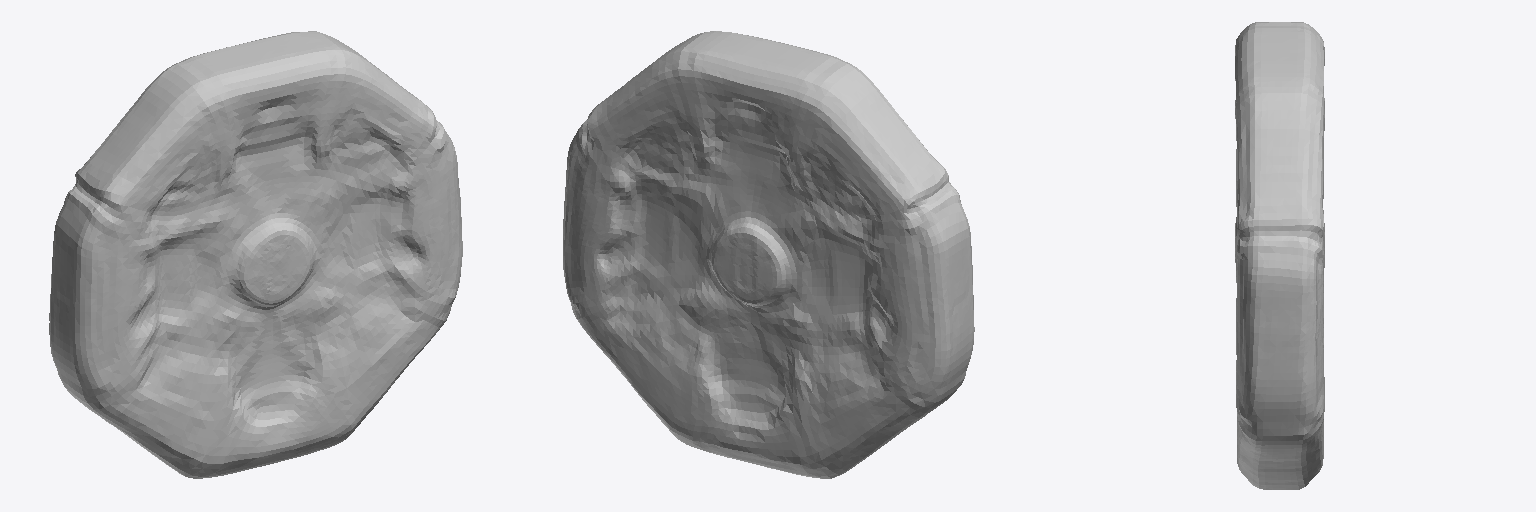
File: b009b4a26163_a_large_Shield_gene.obj
3 views of the same model, side by side, from view 1: azimuth 30°, elevation 25°; view 2: azimuth 150°, elevation 25°; view 3: azimuth 270°, elevation 25° (orthographic).
Visible parts, largest first — view 1: mesh; view 2: mesh; view 3: mesh.
Boxes of the visible parts, x1,y1,x2,y2 form: mesh: [49, 31, 462, 478]; mesh: [563, 31, 974, 478]; mesh: [1235, 22, 1324, 489].
Size of the model in its own units: 0.9992 by 0.9996 by 0.2001.